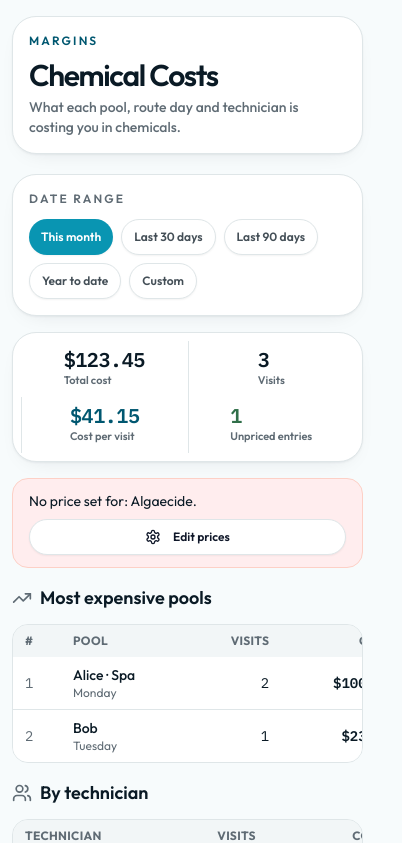
Test: ChemicalCostsPage › switches presets and validates a custom range
Click the button "Custom": (163, 281) [129,263,197,299]
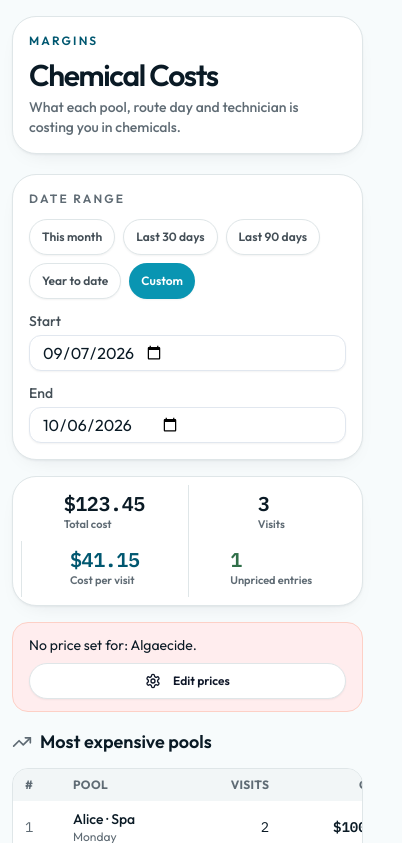
In the date field labelled "Start": (188, 353) [29,335,346,371], type "2026-04-10"
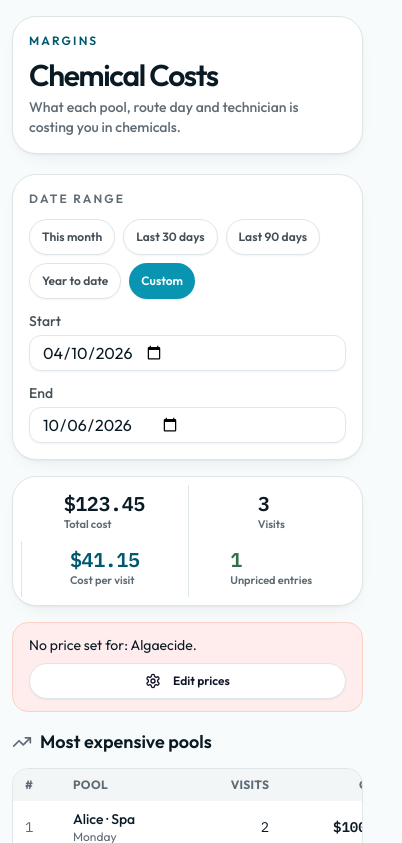
In the date field labelled "End": (188, 425) [29,407,346,443], type "2026-04-01"
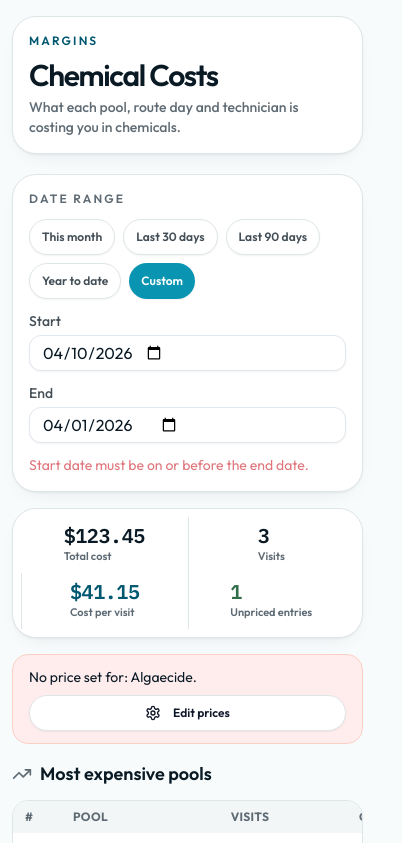
Expected: the message "Start date must be on or before the end date." is shown, [29,455,346,475]
Click the button "Last 30 days": (170, 237) [123,219,218,255]
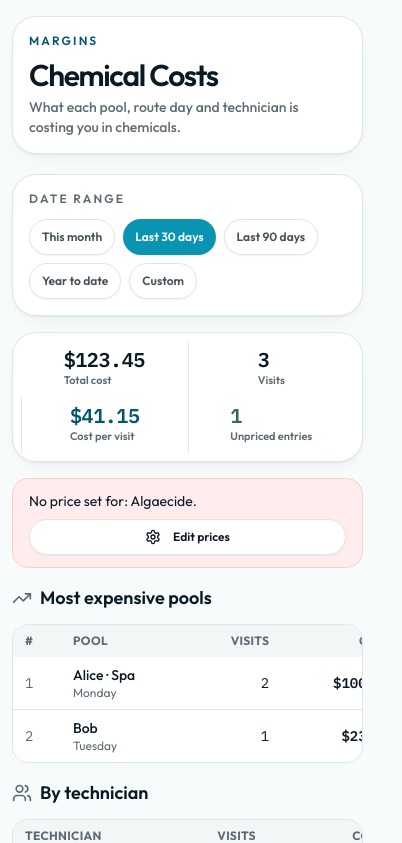
Expected: the button "Last 30 days" is pressed, [123,219,216,255]
